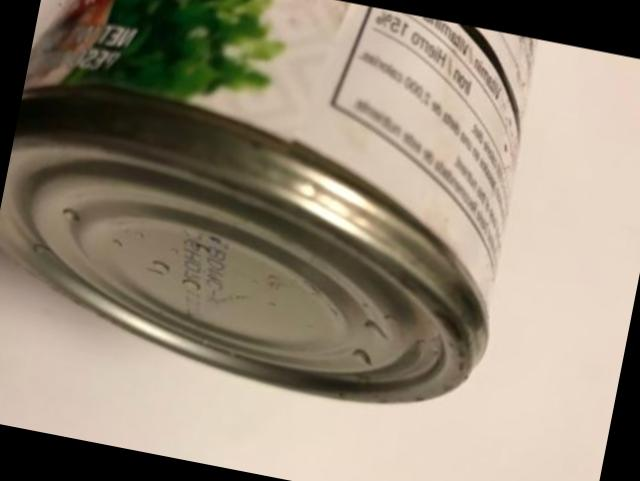metal: (0, 0, 537, 399)
